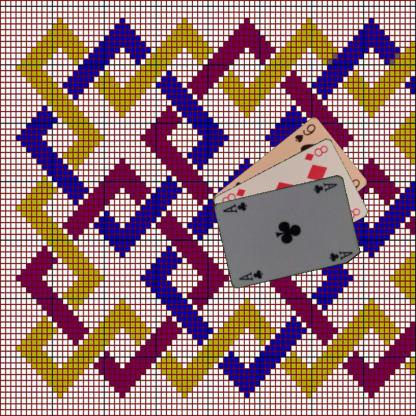8d: (302, 142, 329, 162)
9s: (292, 121, 317, 144)
Ac: (236, 267, 265, 282), (311, 180, 338, 194)
